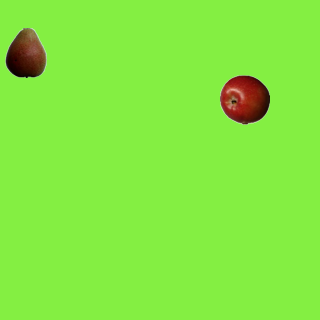Apple Braeburn: (219, 74, 269, 124)
Pear Forelle: (0, 27, 50, 77)
